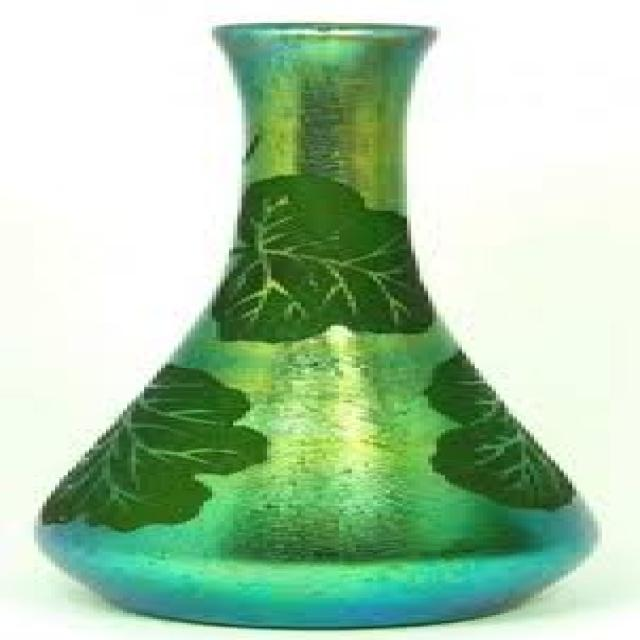glass: (34, 21, 593, 627)
